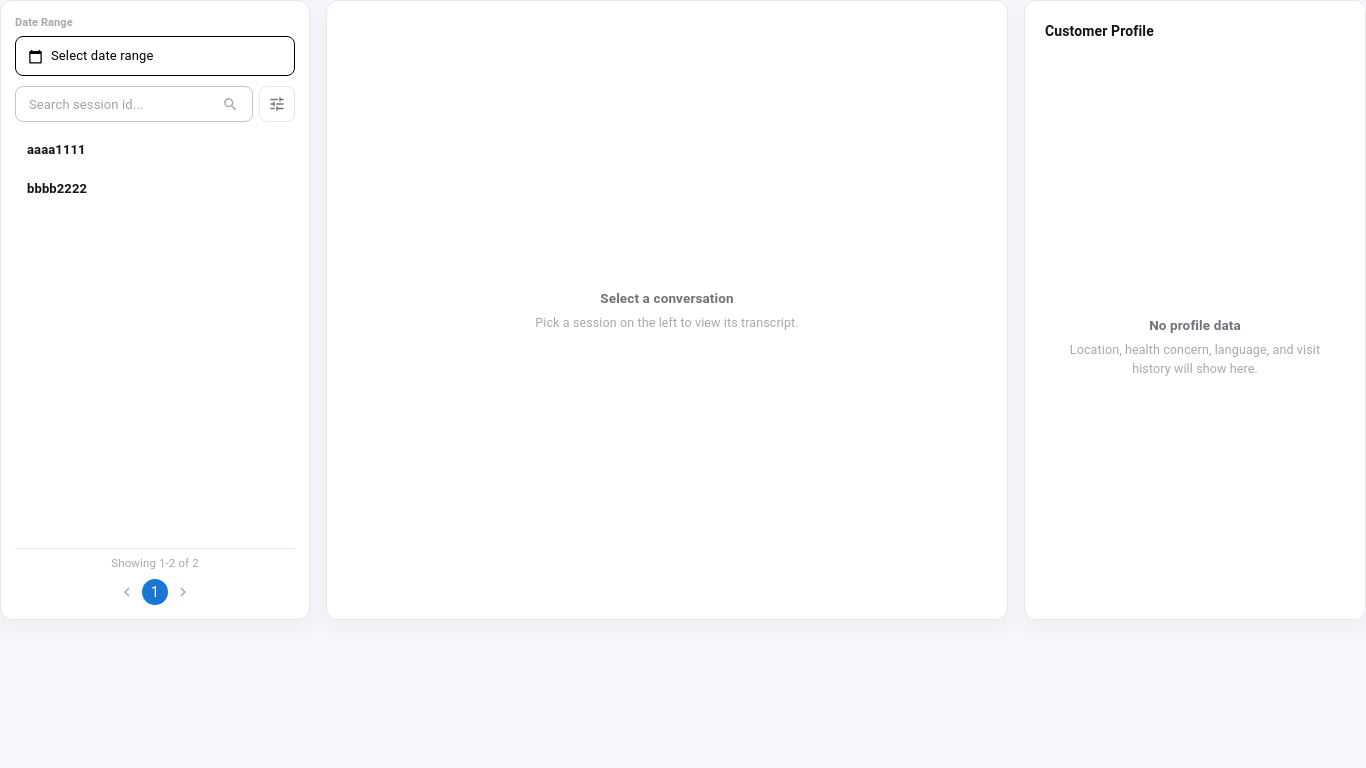
Test: clears old transcript when selecting a conversation whose request fails
Click the text "aaaa1111": {"x": 56, "y": 150} [27, 140, 86, 160]
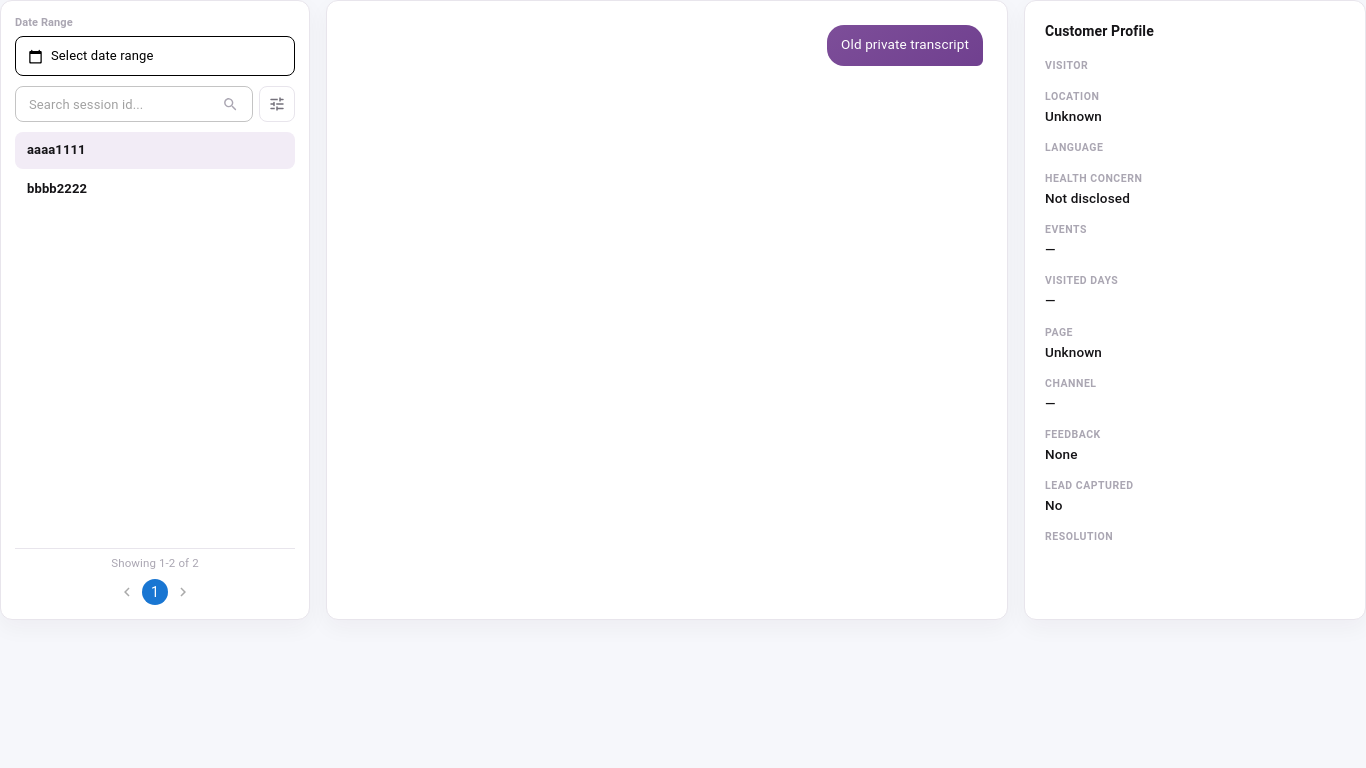
Check: the text "Old private transcript" is shown, box [841, 34, 969, 54]
Click the text "bbbb2222": {"x": 57, "y": 189} [27, 179, 87, 198]
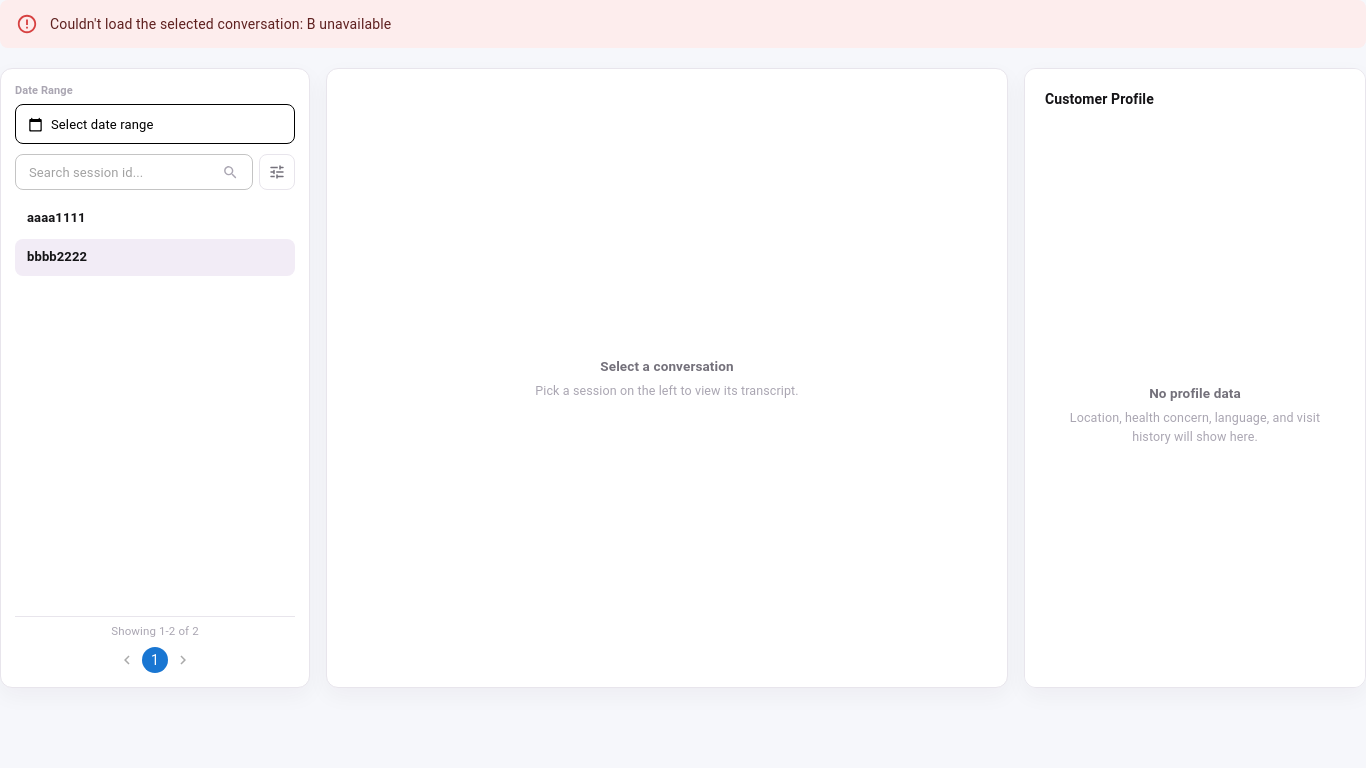
Check: the text "Couldn't load the selected conversation: B unavailable" is shown, box [50, 16, 391, 32]
Check: the text "Old private transcript" is gone
